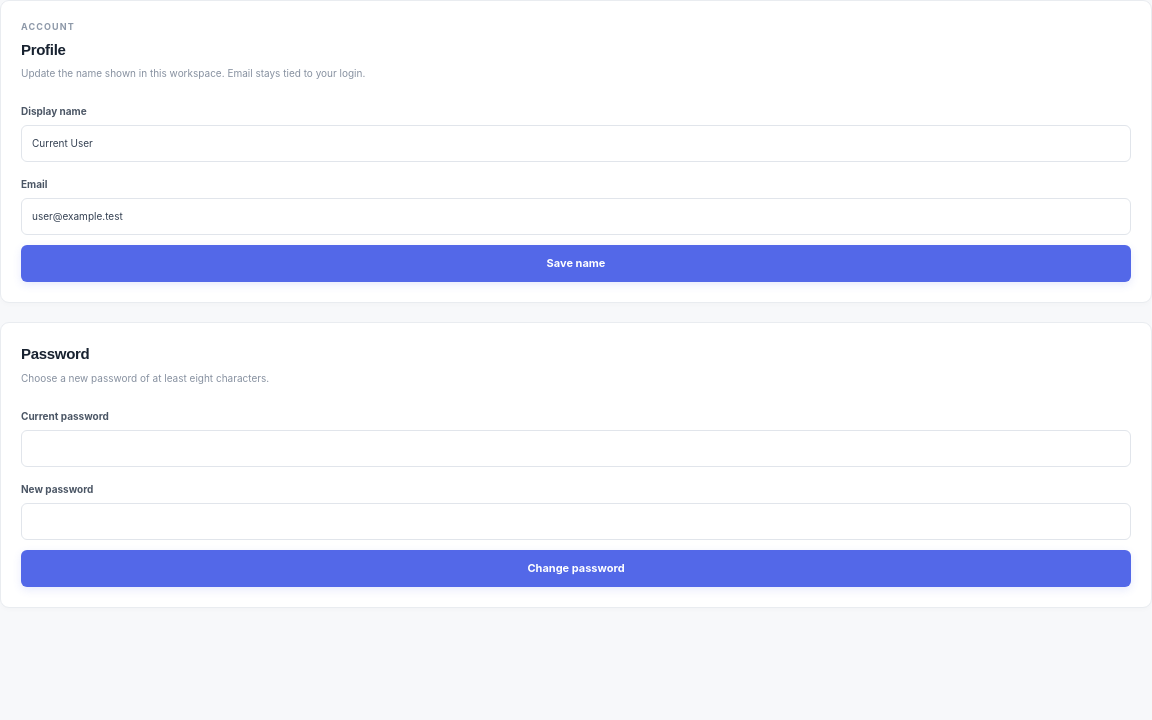
Test: profile settings › saves a new display name
Replace the text in the field labelled "Display name" with "Updated User" at [576, 144], box [21,125,1131,162]
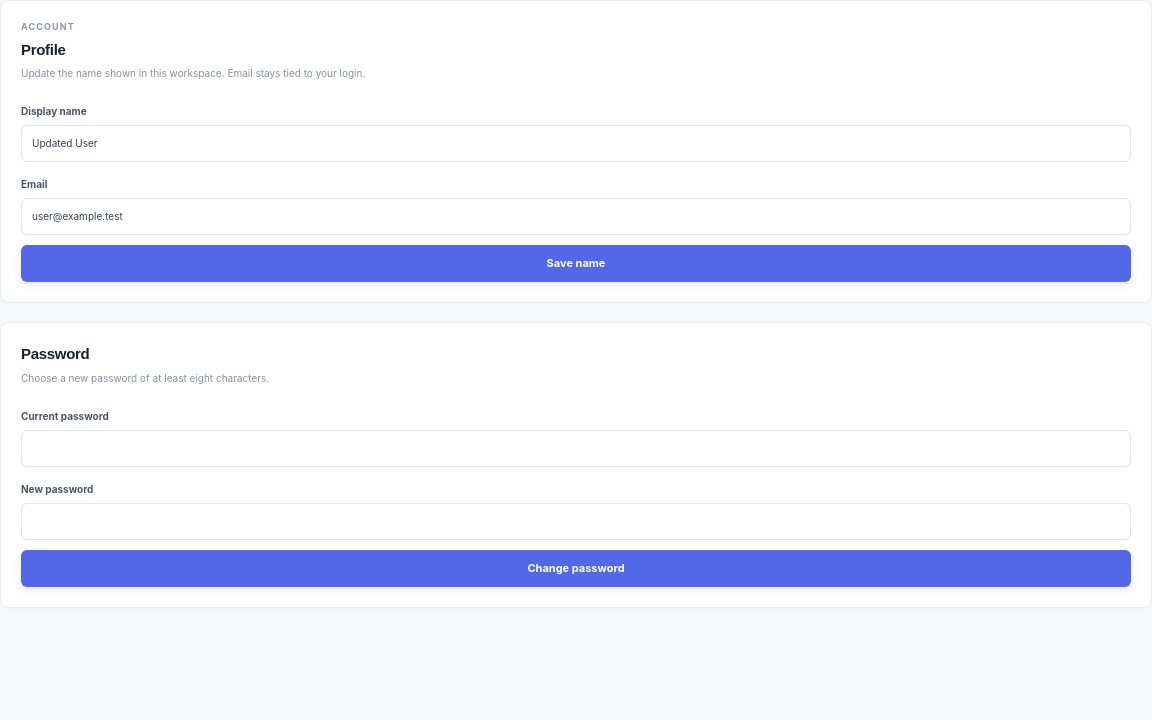
Click the button "Save name".
click(576, 264)  # box [21,245,1131,282]
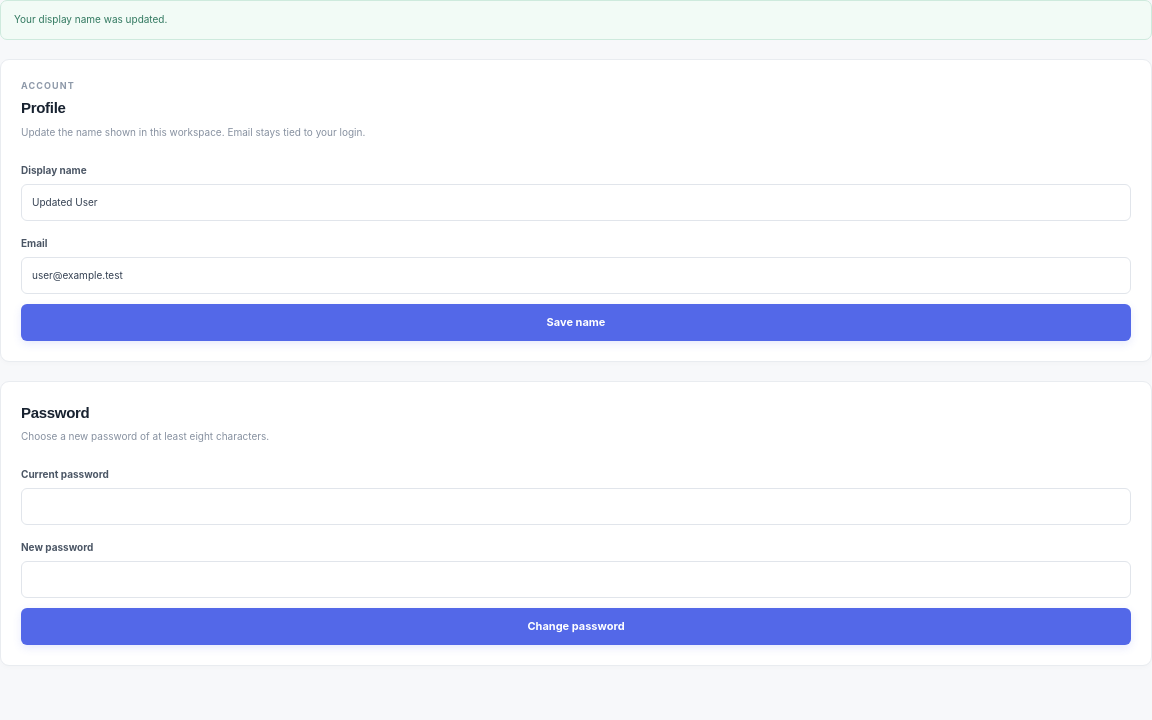
Result: the text "Your display name was updated." is shown at [0,0,1151,40]
